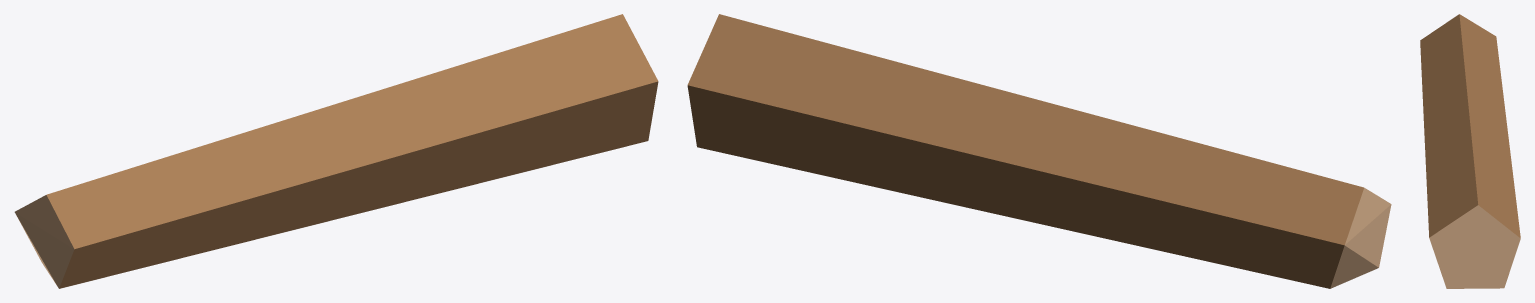
The model's file is Pine_Log_02.fbx.
The picture shows the model from 3 angles, left to right: view 1: azimuth 30°, elevation 25°; view 2: azimuth 150°, elevation 25°; view 3: azimuth 270°, elevation 25°; orthographic projection. The views are drawn at different scales.
Visible parts, largest first — view 1: Pine_Log_02; view 2: Pine_Log_02; view 3: Pine_Log_02.
Boxes of the visible parts, bbox=[...] form: Pine_Log_02: bbox=[14, 14, 658, 288]; Pine_Log_02: bbox=[687, 14, 1391, 288]; Pine_Log_02: bbox=[1420, 14, 1520, 288].
Size of the model in its own units: 331 by 59.08 by 65.36.
